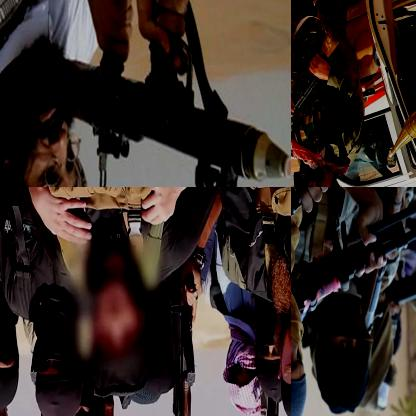rifle: (50, 0, 290, 186), (291, 188, 415, 315), (291, 187, 381, 282), (291, 23, 343, 142), (382, 0, 415, 161), (171, 326, 198, 415), (256, 385, 282, 415)
